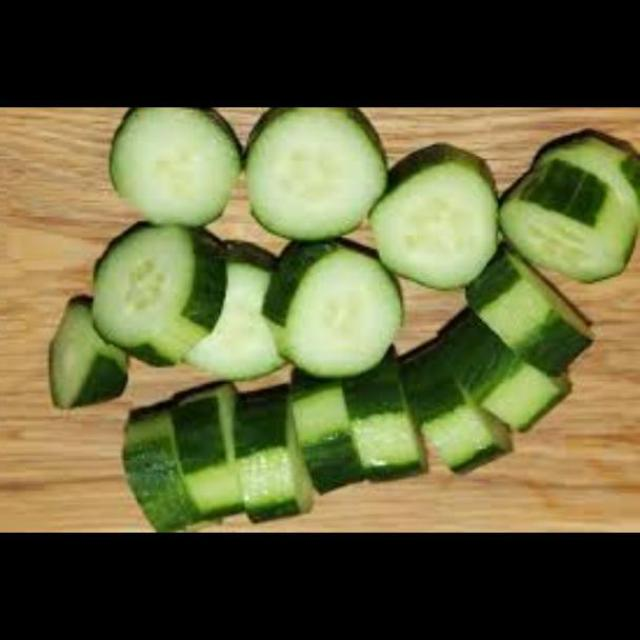cucumber: (286, 370, 496, 506), (134, 386, 310, 534), (442, 269, 592, 428), (80, 217, 229, 376), (499, 134, 640, 296), (372, 146, 502, 312), (246, 108, 388, 250), (266, 242, 406, 384), (168, 245, 294, 392), (113, 108, 249, 242), (38, 296, 136, 418)
